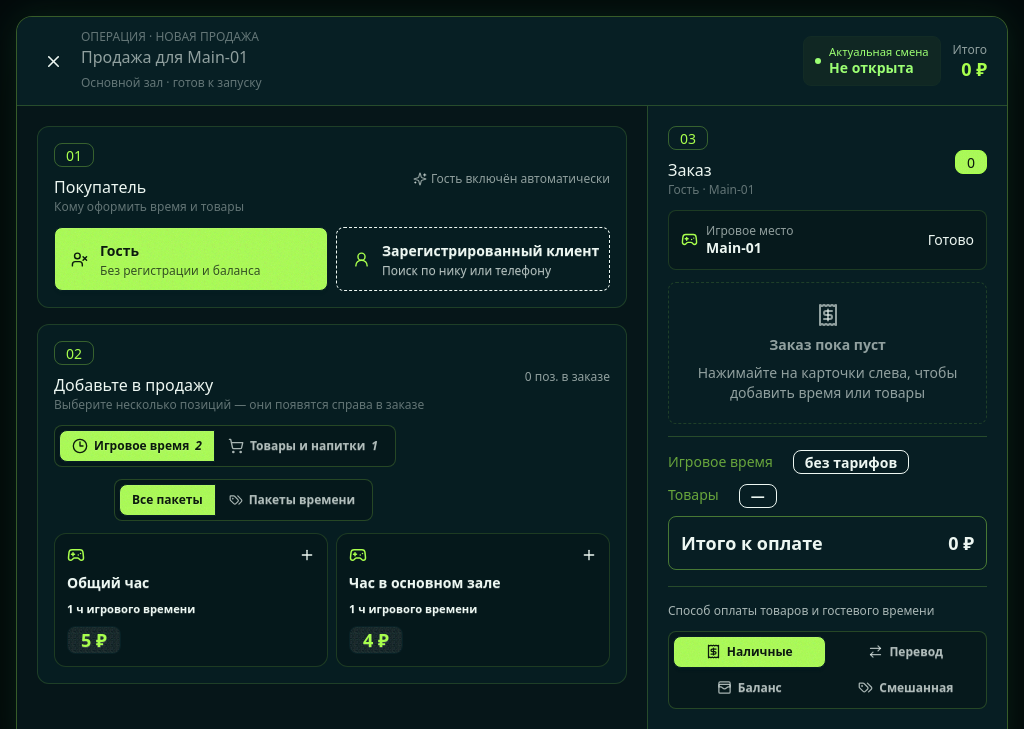
Test case: Окно продажи › показывает только глобальный и зональный тарифы и требует позицию до подтверждения
Expected: the button "Общий час 1 ч игрового времени 5 ₽" is shown, [54,533,328,667]
Click the button "Час в основном зале 1 ч игрового времени 4 ₽" at [473, 600], box [336,533,610,667]
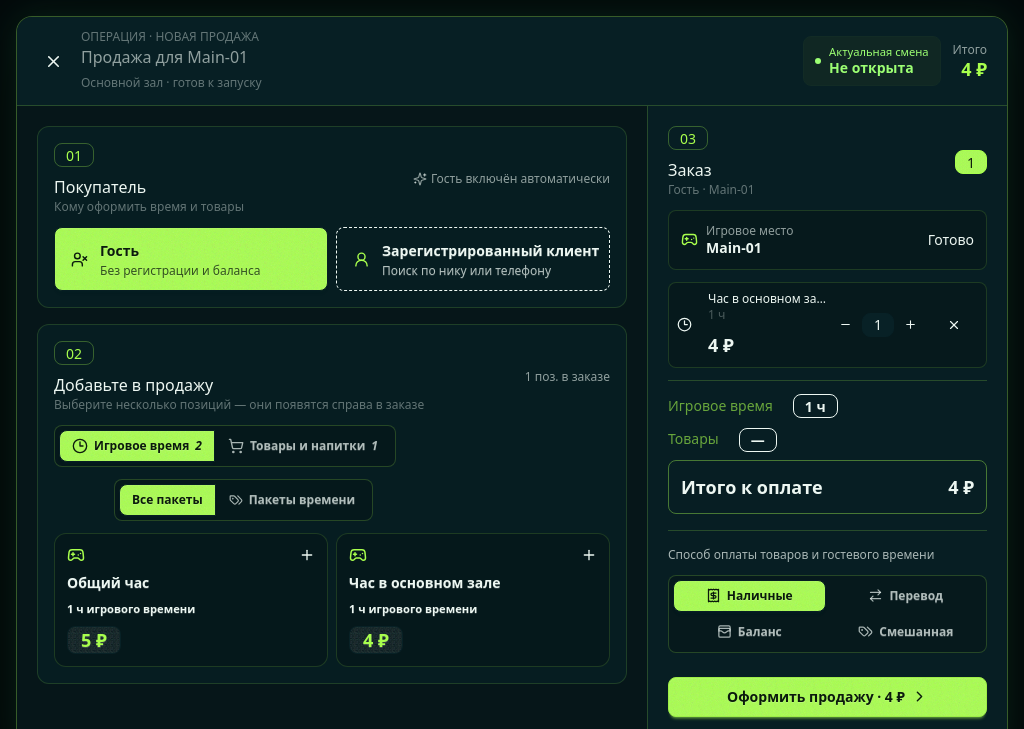
Expected: the text "Час в основном зале" is shown 2 times, [349,573,500,592]; [708,290,826,306]
Expected: the button "Оформить продажу · 4 ₽" is enabled, [668,677,987,717]
